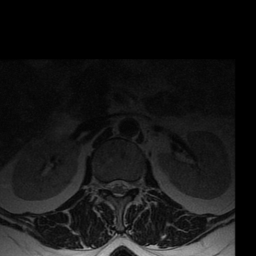CCS_normal: (115, 171, 122, 203)
LFS_normal: (129, 174, 136, 196)
LLS_normal: (122, 172, 129, 199)
RFS_normal: (99, 174, 107, 196)
RLS_normal: (107, 173, 115, 197)
